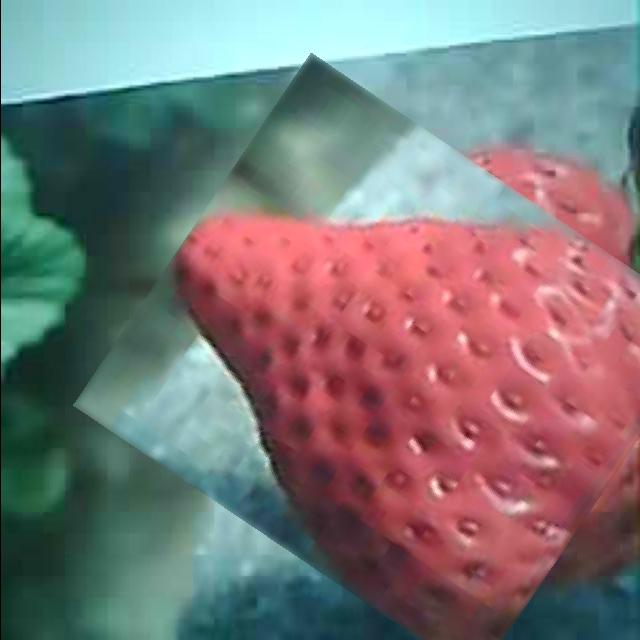strawberry: (111, 102, 640, 628)
